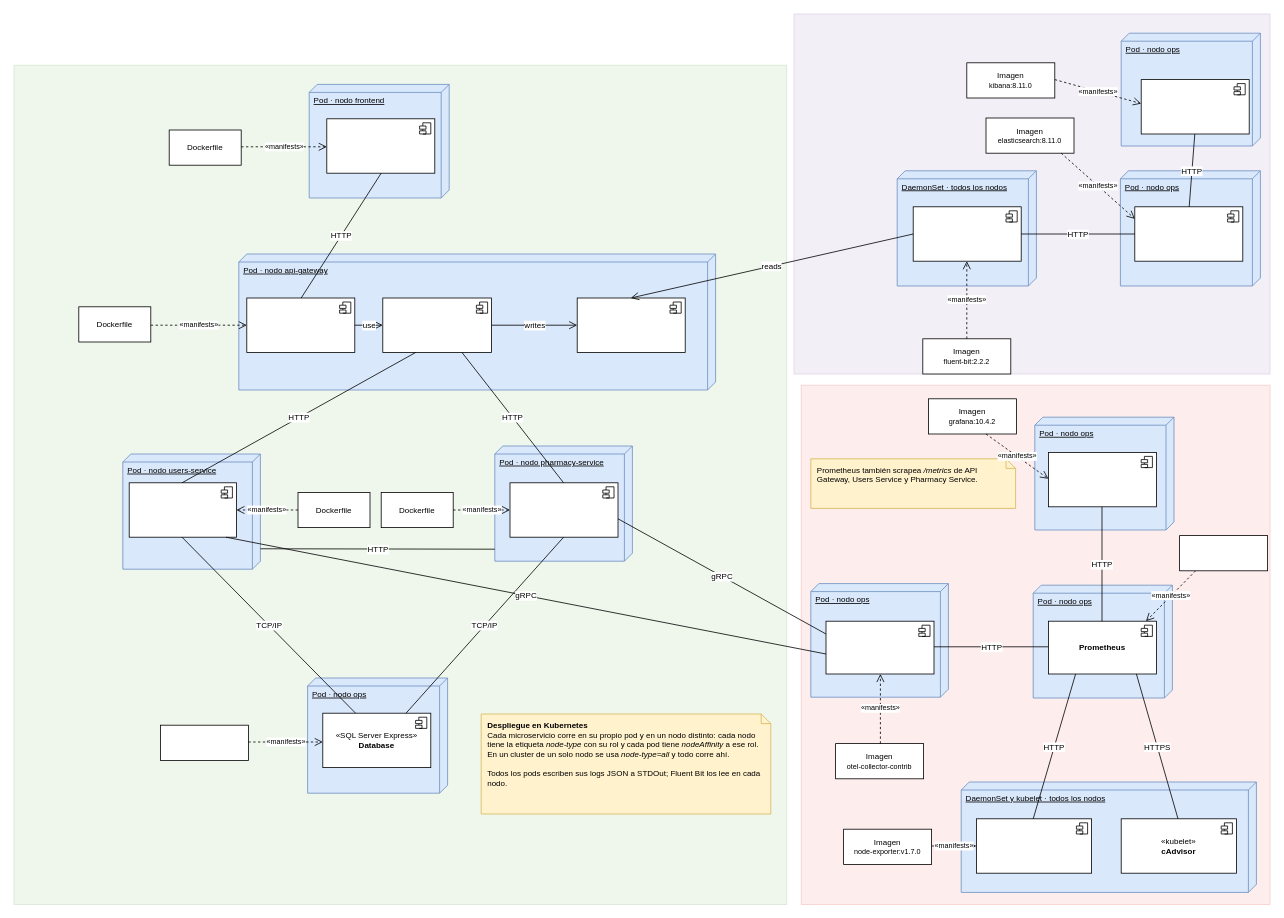
This 1284x918 diagram has some shape labels left out. Each missing label, with the centre of its shape:
"Elasticsearch" goes at point 1188,233.
"Fluent Bit" goes at point 966,233.
"Grafana" goes at point 1102,479.
"Imagen mssql/server:2019" goes at point 204,742.
"Imagen prom/prometheus" goes at point 1223,553.
"Kibana" goes at point 1194,106.
"node-exporter" goes at point 1034,845.
"OTLP Collector" goes at point 879,647.
"STDOut" goes at point 630,324.
"«Angular app» Frontend" goes at point 380,145.
"«ASP.NET Core» API Gateway Service" goes at point 300,324.
"«ASP.NET Core» Pharmacy Service" goes at point 563,509.
"«ASP.NET Core» Users Service" goes at point 182,509.
"«ASP.NET YARP» Reverse Proxy" goes at point 437,324.
